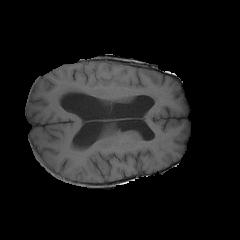glioma: (53, 80, 157, 108)
